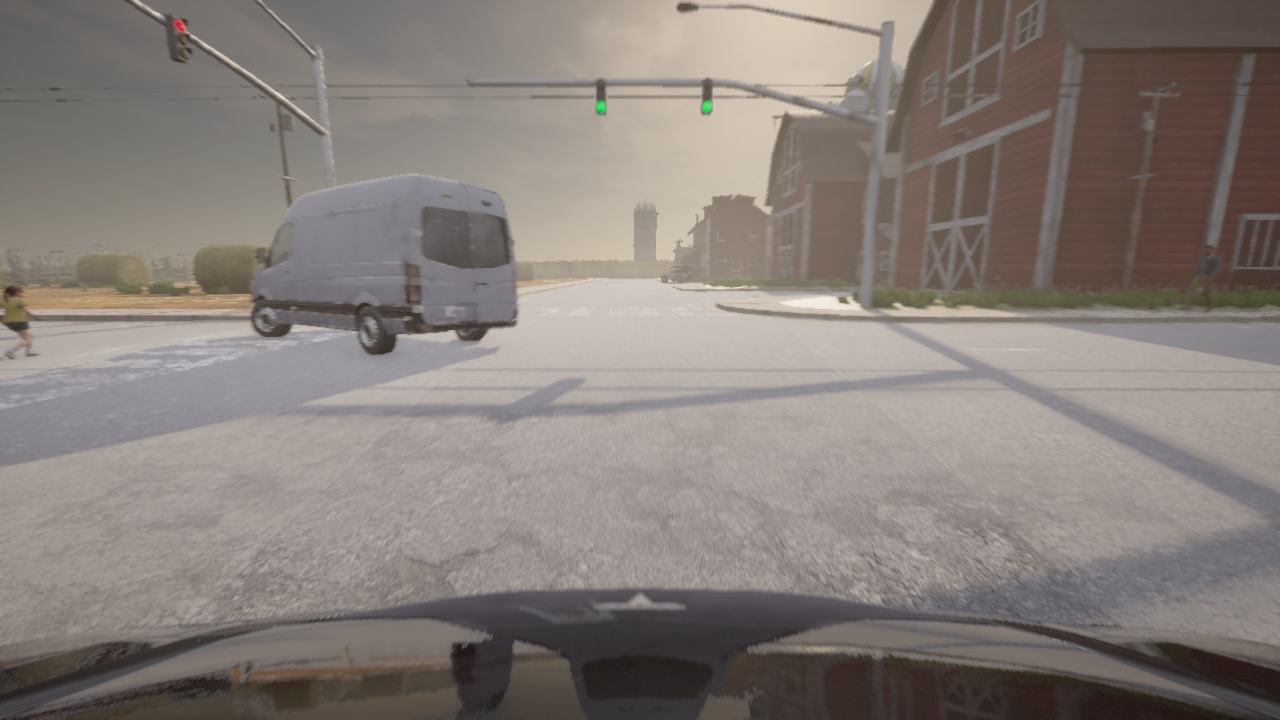cyclist: (0, 588, 1279, 719), (250, 174, 517, 355), (660, 265, 693, 282)
pedestrian: (0, 285, 42, 359), (1178, 245, 1220, 312)
